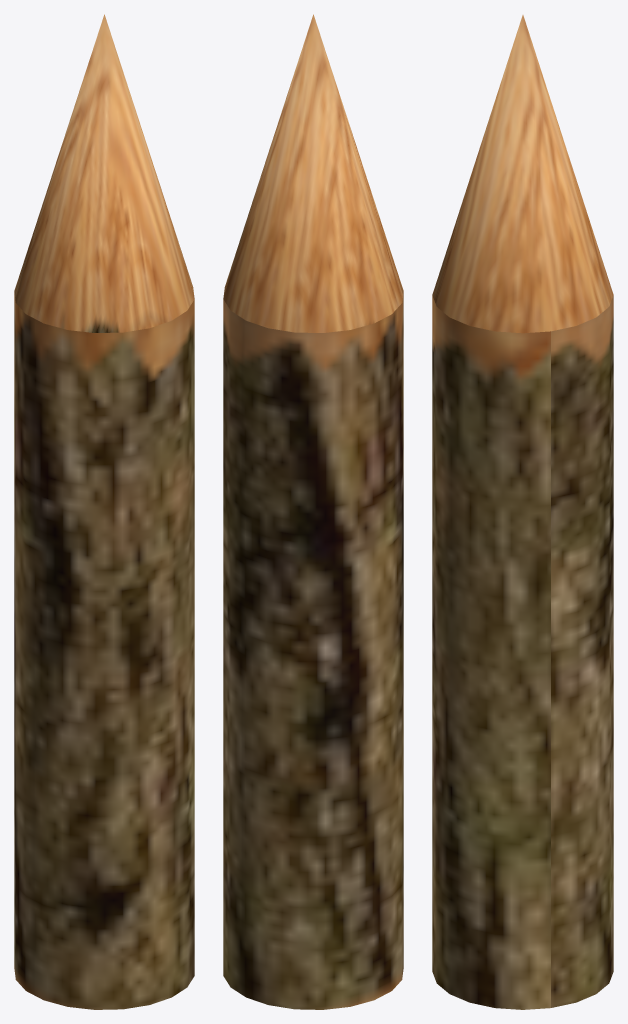
File: STake.fbx
3 renders of one model, left to right at view 1: azimuth 30°, elevation 25°; view 2: azimuth 150°, elevation 25°; view 3: azimuth 270°, elevation 25°, orthographic.
Visible parts, largest first — view 1: pCylinder1; view 2: pCylinder1; view 3: pCylinder1.
Part boxes in pixels (bbox=[...]): pCylinder1: bbox=[14, 14, 194, 1009]; pCylinder1: bbox=[223, 14, 403, 1009]; pCylinder1: bbox=[432, 15, 613, 1009].
Bounding box in the file's own units: 3.46 × 20.18 × 3.46.
